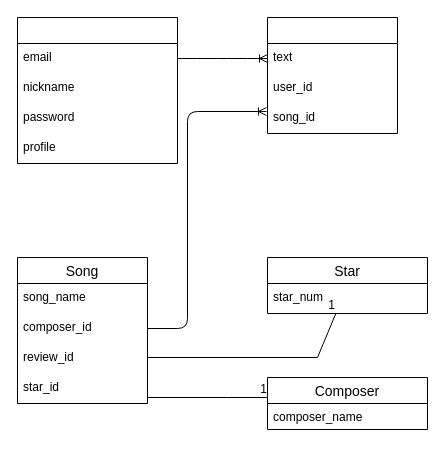
This 445x450 diagram has some shape labels left out. Here are the shapes that lost their labels. From the top down, the box of each, then its label:
(16, 16, 178, 164): User
(266, 16, 398, 134): Review
